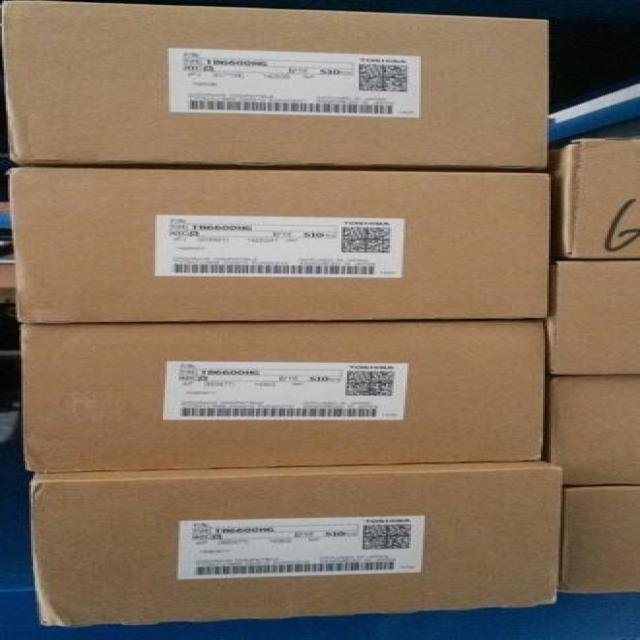box: (2, 1, 548, 169), (32, 460, 564, 627), (11, 169, 544, 323), (21, 318, 542, 473), (547, 139, 638, 259), (548, 260, 638, 377), (547, 377, 638, 487), (559, 486, 638, 593)
